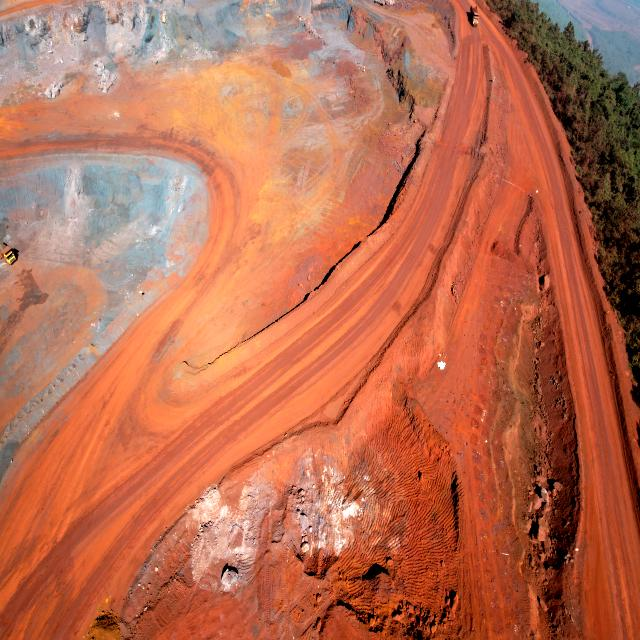Dumper truck: (0, 241, 16, 266), (471, 7, 480, 27)
